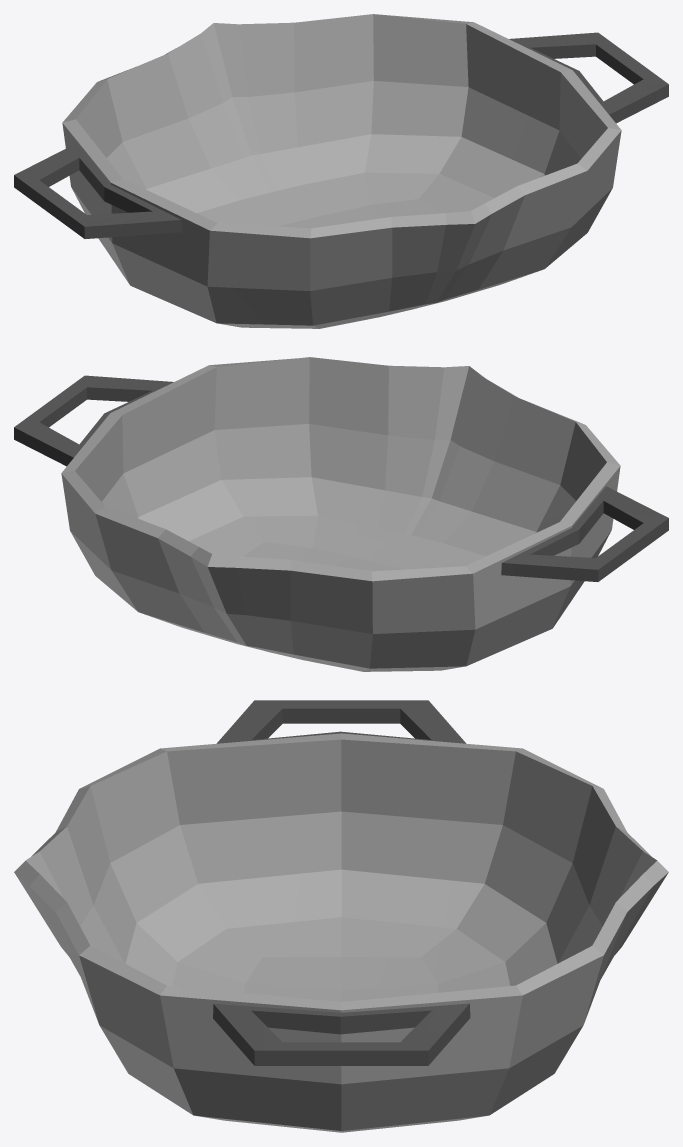
The model's file is FryingPan#3Model.fbx.
The picture shows the model from 3 angles, top to bottom: view 1: azimuth 30°, elevation 25°; view 2: azimuth 150°, elevation 25°; view 3: azimuth 270°, elevation 25°; orthographic projection. The views are drawn at different scales.
Visible parts, largest first — view 1: FryingPan#3Model; view 2: FryingPan#3Model; view 3: FryingPan#3Model.
Boxes of the visible parts, x1,y1,x2,y2 form: FryingPan#3Model: (14, 14, 668, 328); FryingPan#3Model: (14, 357, 668, 671); FryingPan#3Model: (14, 700, 668, 1132).
Bounding box in the file's own units: 91.08 × 22.23 × 71.93.
